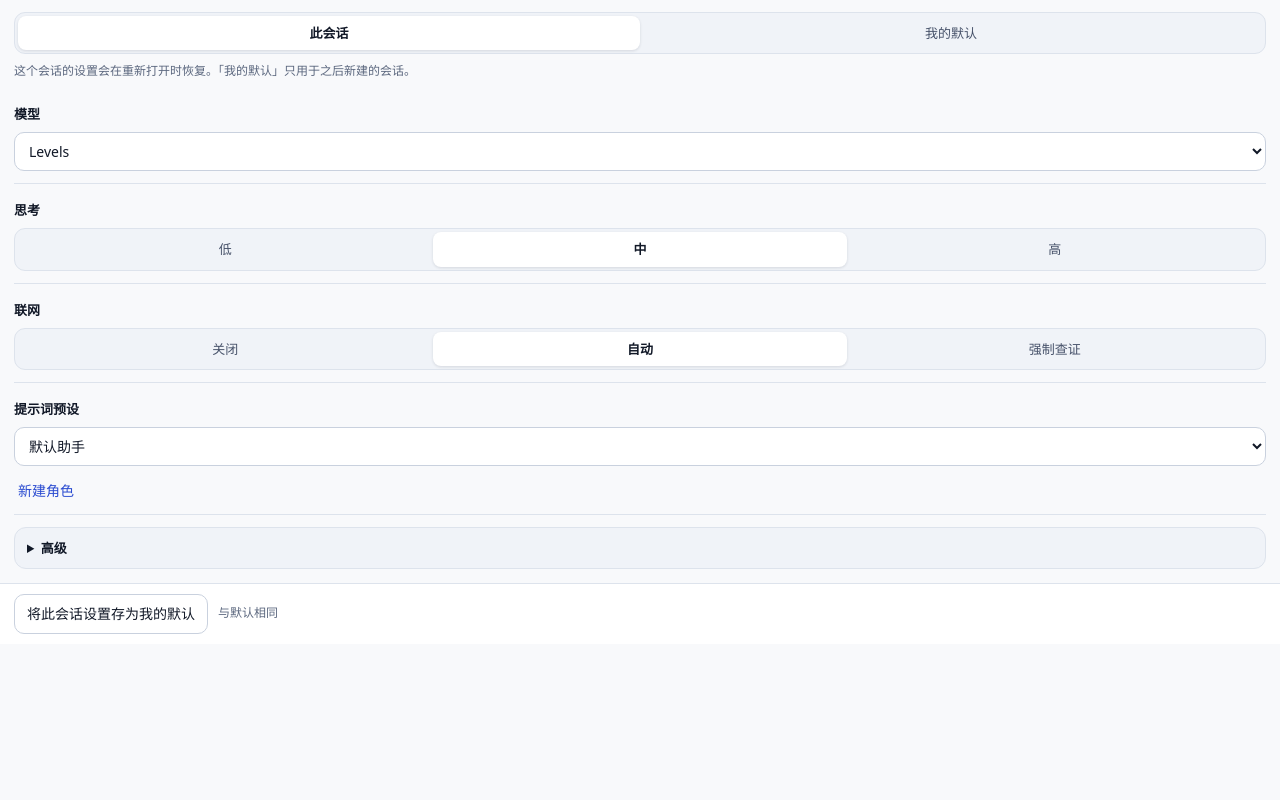
SettingsPanel › shows no role controls on the defaults tab
Click the radio button labelled "我的默认": (951, 33) [640,16,1262,50]
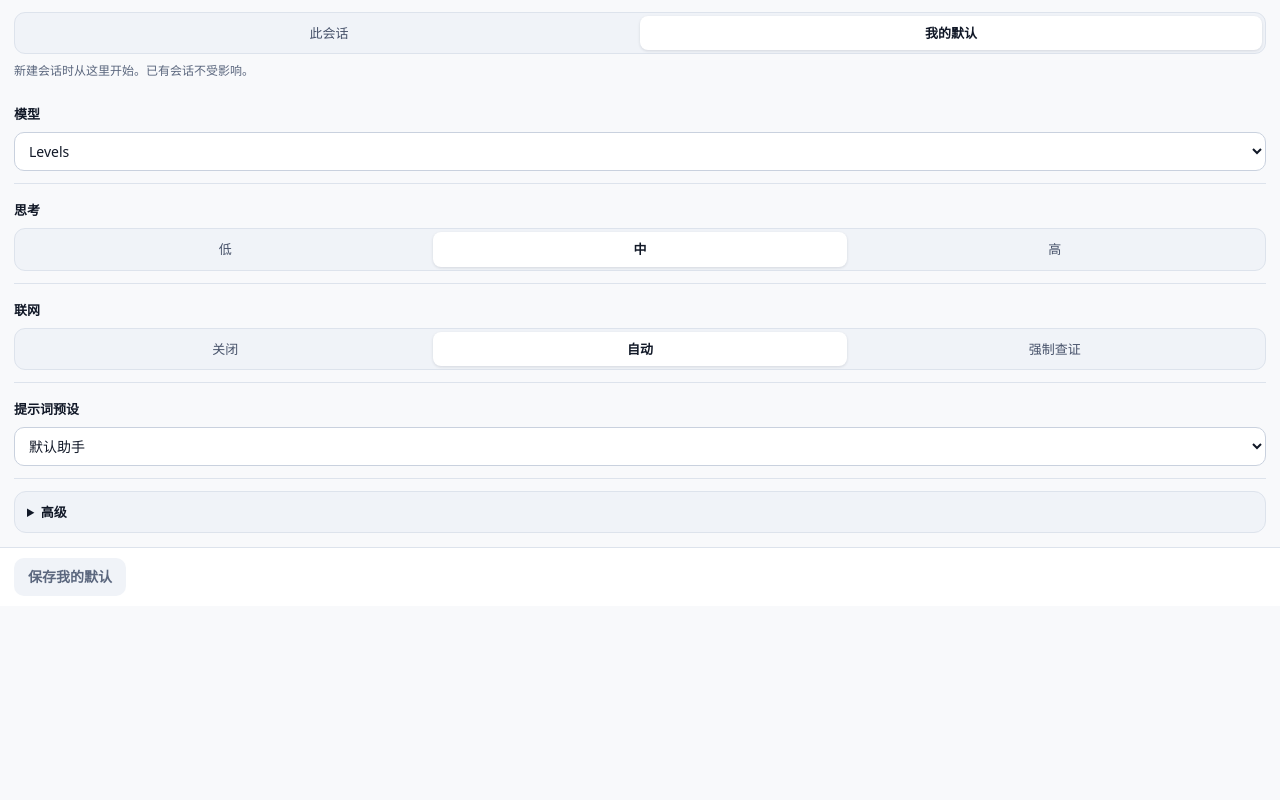
Expected: the button "新建角色" is gone
